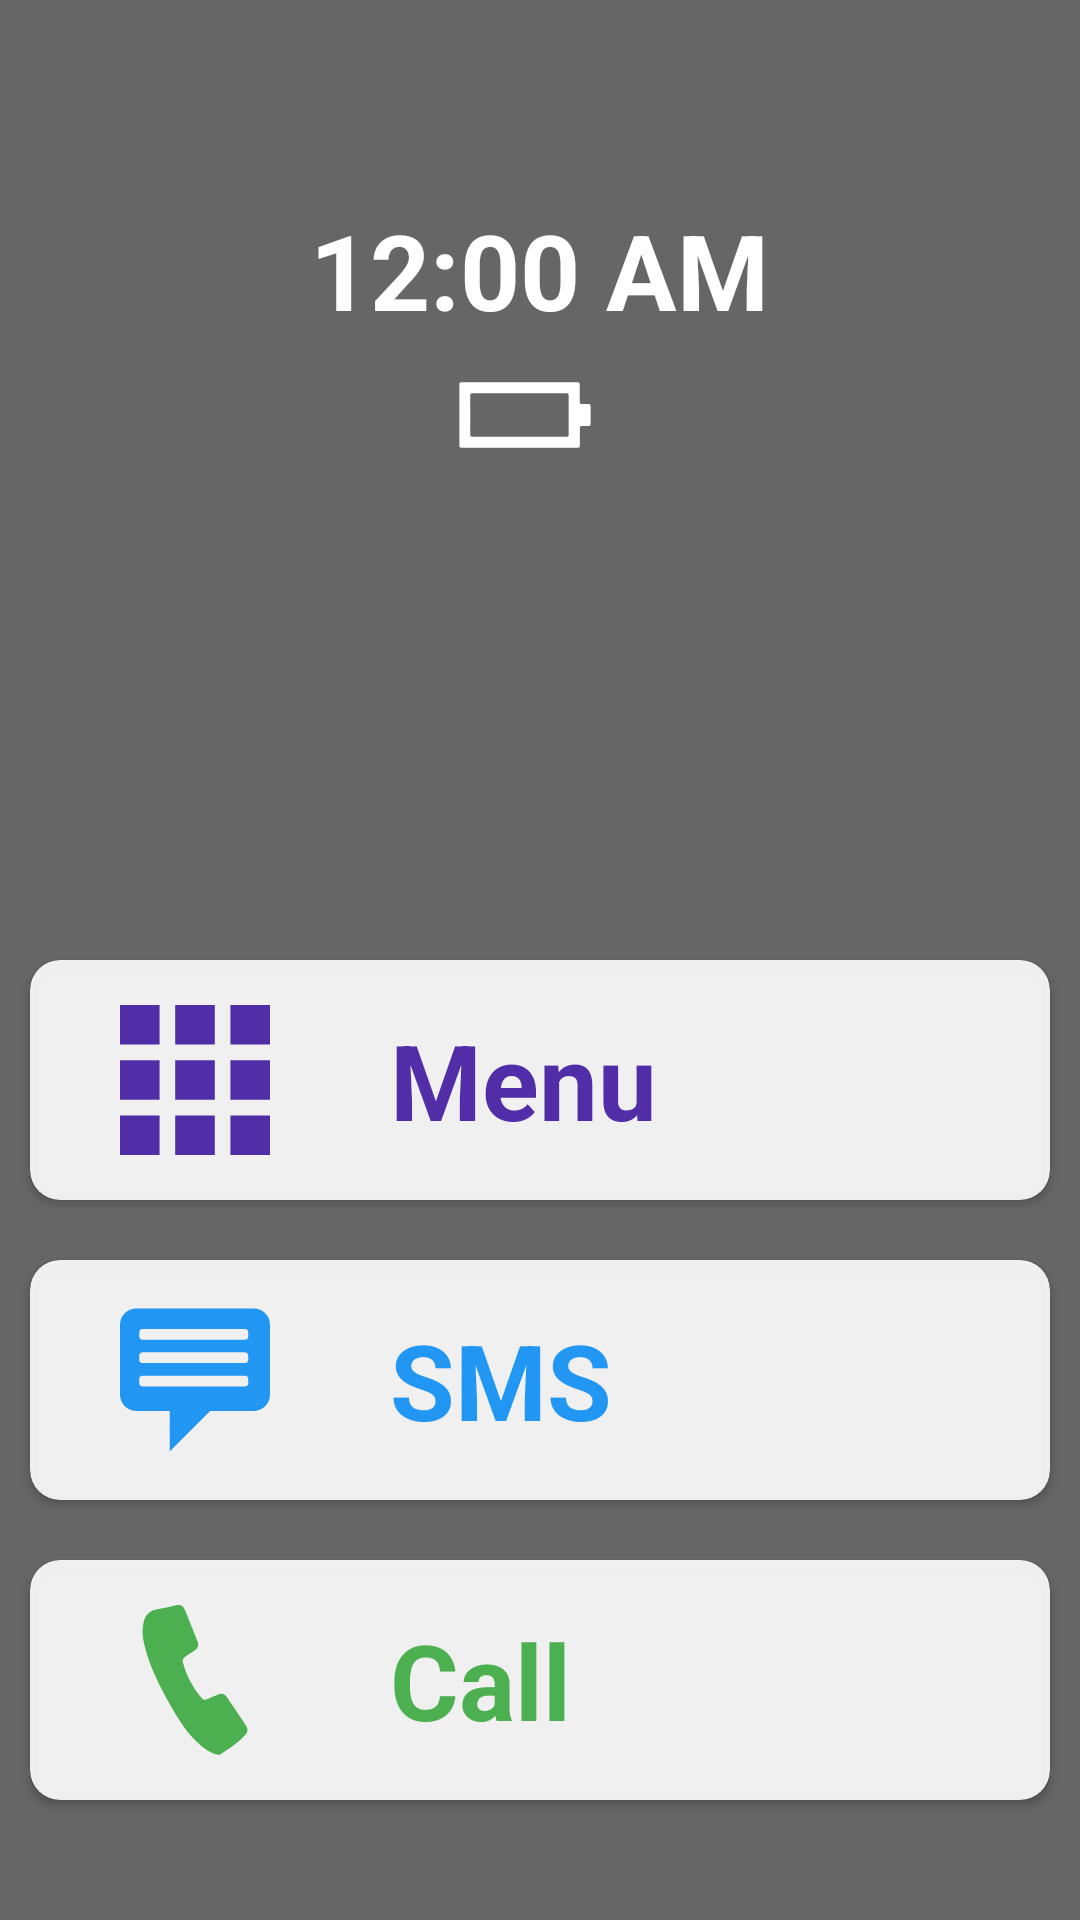

Where to tap for icons on this 1080px×1920px app screen, as (x,y):
battery empty: (525,415)
ui text chat: (195,1380)
